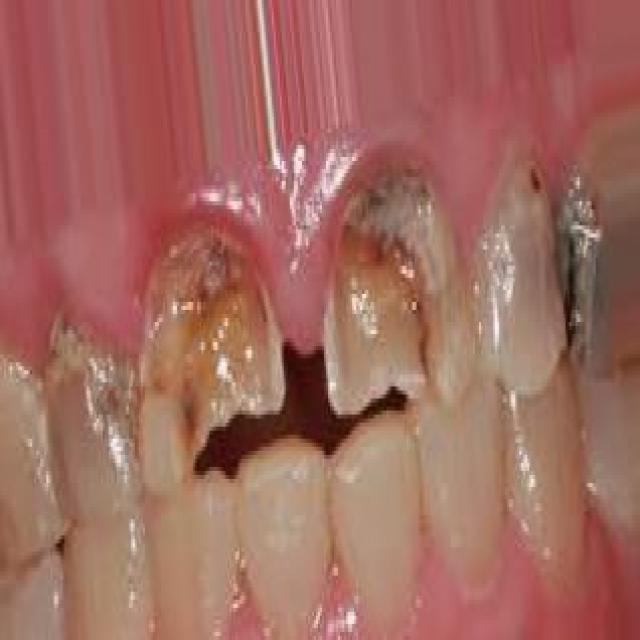caries: (135, 226, 292, 478), (317, 172, 472, 415), (552, 172, 602, 370)
